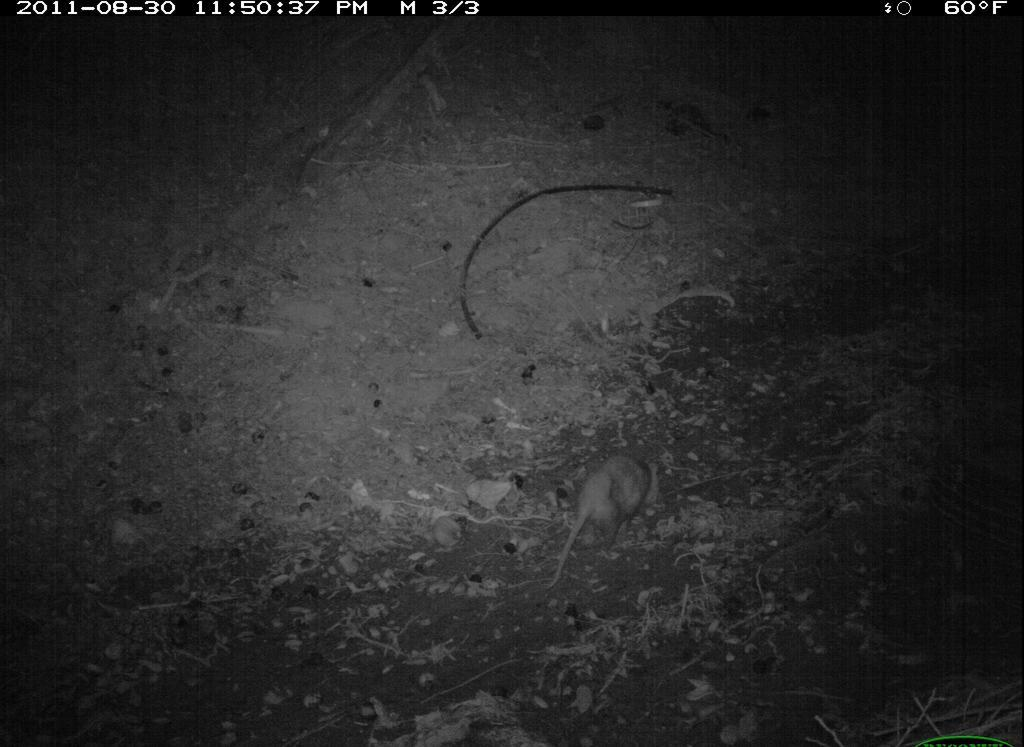opossum: (538, 447, 673, 593)
